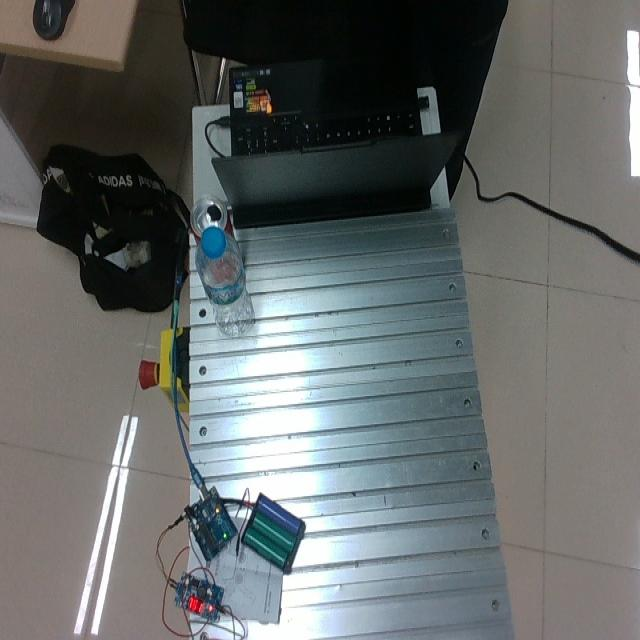coca: (189, 195, 230, 240)
lavie: (195, 220, 254, 336)
